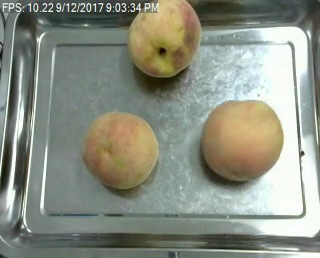Peach: (200, 99, 284, 180), (81, 111, 159, 190), (127, 0, 201, 78)
